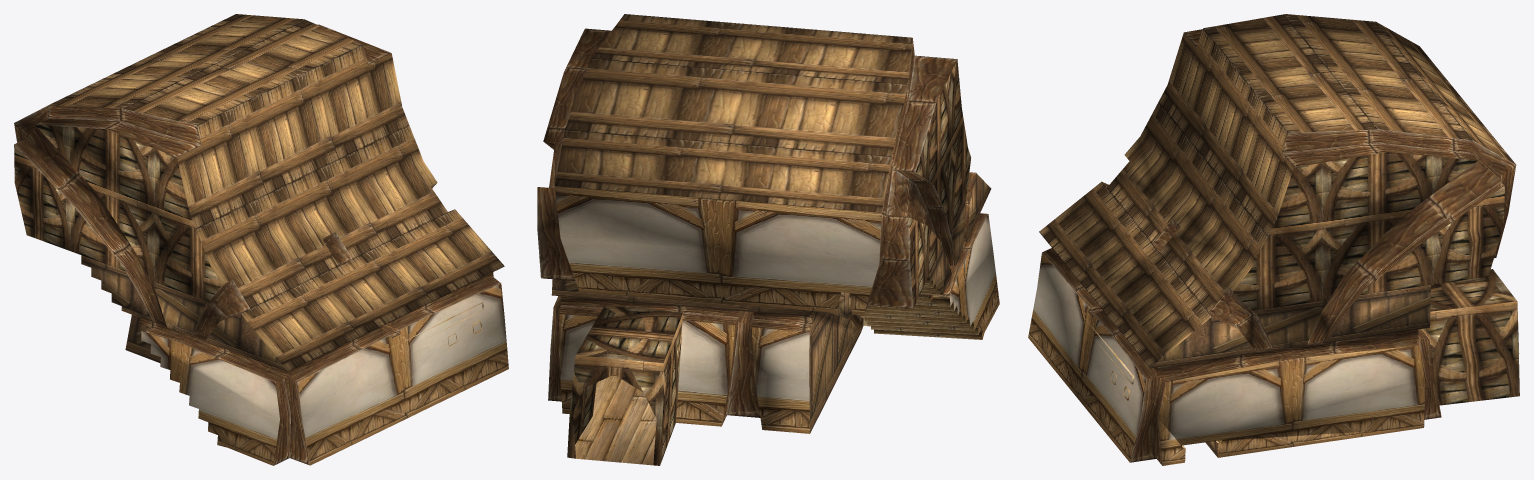
File: stormwind_114.fbx
3 renders of one model, left to right at view 1: azimuth 30°, elevation 25°; view 2: azimuth 150°, elevation 25°; view 3: azimuth 270°, elevation 25°, orthographic. The views are drawn at different scales.
Visible parts, largest first — view 1: stormwind_114_55, stormwind_114_48, stormwind_114_53, stormwind_114_49, stormwind_114_56; view 2: stormwind_114_55, stormwind_114_48, stormwind_114_53, stormwind_114_49, stormwind_114_56, stormwind_114_51; view 3: stormwind_114_55, stormwind_114_49, stormwind_114_48, stormwind_114_53, stormwind_114_56.
Part boxes in pixels (box(x1,y1,x2,y2)): stormwind_114_55: box(48, 14, 504, 371); stormwind_114_48: box(121, 283, 508, 465); stormwind_114_53: box(14, 24, 500, 465); stormwind_114_49: box(14, 124, 222, 301); stormwind_114_56: box(81, 255, 287, 371); stormwind_114_55: box(555, 14, 912, 212); stormwind_114_48: box(555, 186, 999, 433); stormwind_114_53: box(537, 28, 988, 425); stormwind_114_49: box(567, 59, 970, 465); stormwind_114_56: box(551, 173, 991, 433); stormwind_114_51: box(575, 374, 656, 465); stormwind_114_55: box(1039, 14, 1515, 367); stormwind_114_49: box(1233, 152, 1519, 405); stormwind_114_48: box(1028, 253, 1424, 465); stormwind_114_53: box(1042, 29, 1516, 465); stormwind_114_56: box(1150, 285, 1430, 457).
Bounding box in the file's own units: 18.54 × 13.56 × 20.49.
